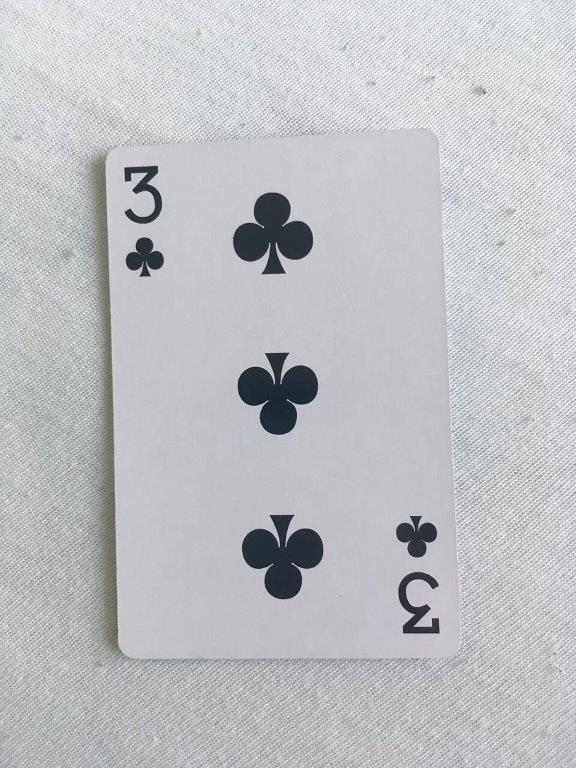3C: (100, 125, 465, 664)
